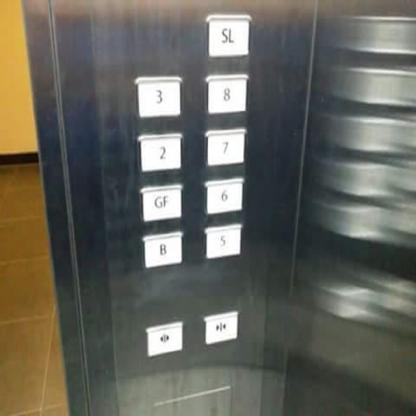2: (136, 129, 184, 175)
3: (133, 74, 185, 119)
5: (202, 221, 243, 260)
6: (202, 175, 246, 216)
7: (202, 126, 245, 168)
8: (204, 71, 249, 116)
B: (140, 230, 184, 270)
GF: (138, 180, 186, 224)
SL: (205, 11, 251, 60)
close: (202, 308, 239, 348)
open: (145, 319, 183, 360)
